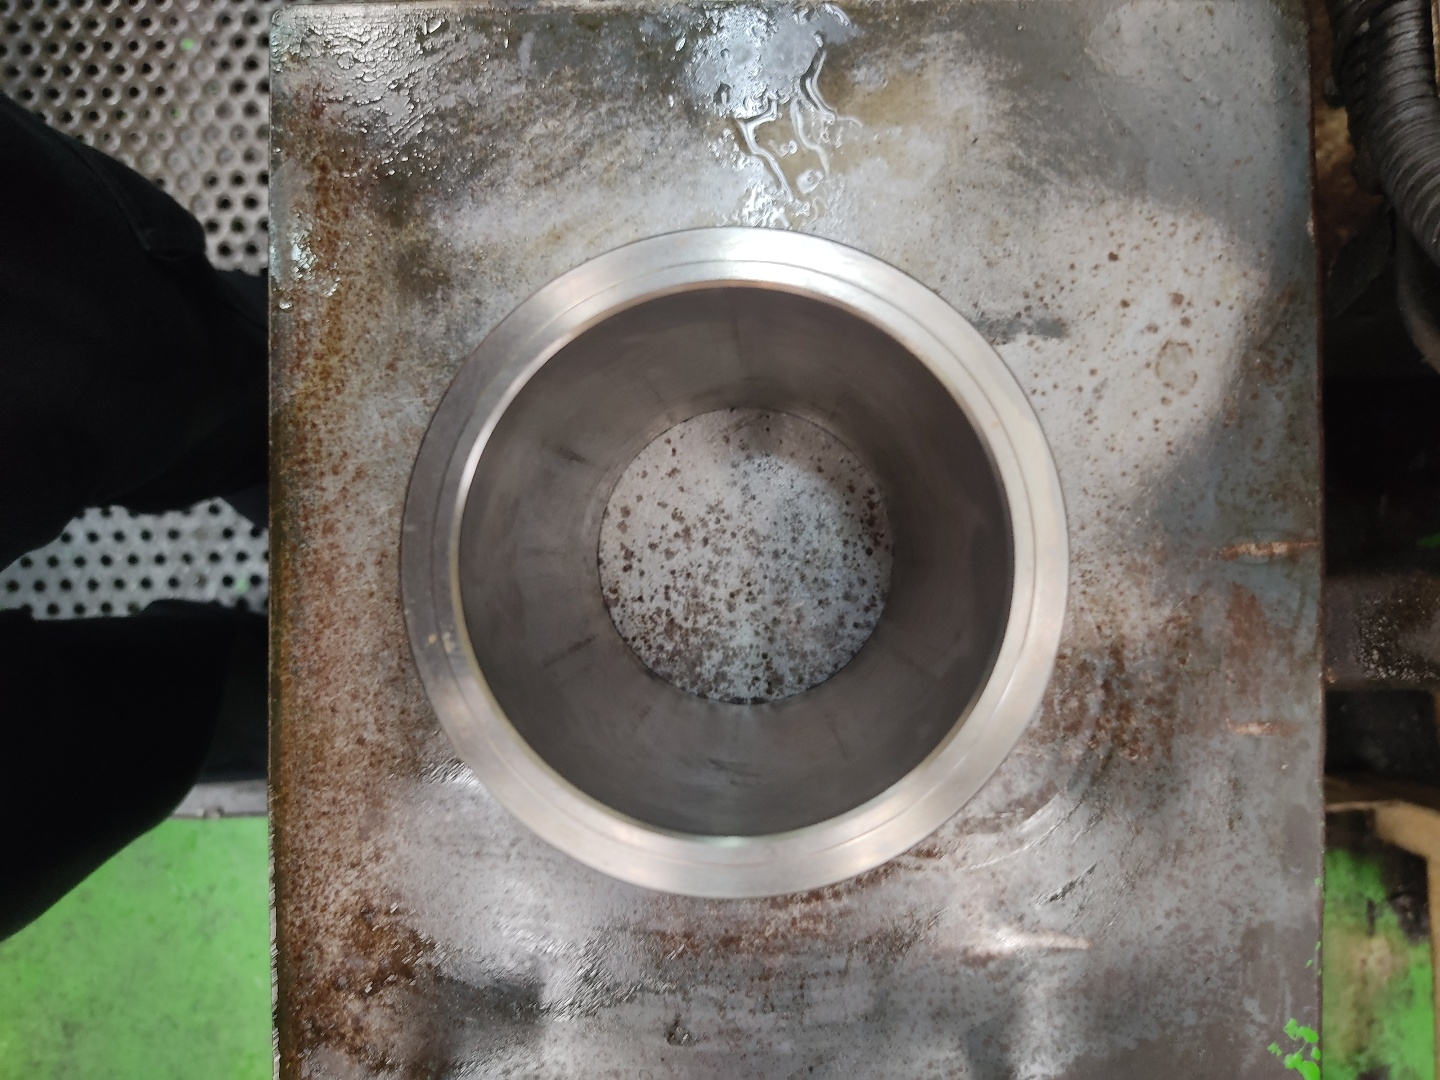cylinder: (395, 222, 1074, 903)
